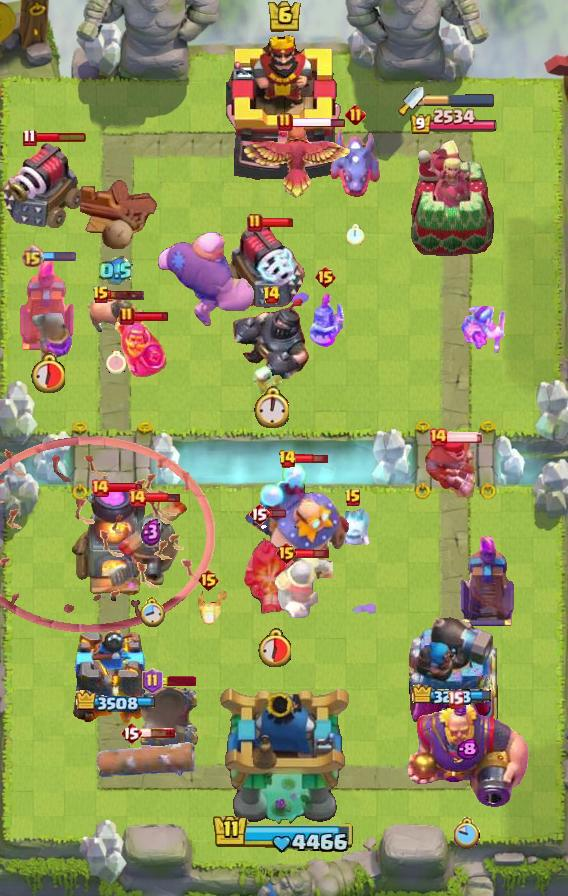balloon: (155, 230, 257, 330)
bar: (409, 138, 497, 256)
bat: (331, 506, 375, 552)
bomb-tower: (31, 308, 73, 372)
clock: (212, 813, 356, 855)
dark-prince: (107, 497, 195, 585)
electro-spirit: (99, 256, 133, 286), (142, 518, 163, 546), (457, 739, 480, 762)
elixir: (253, 386, 289, 428), (30, 353, 66, 393), (257, 628, 291, 667), (455, 817, 482, 849), (139, 597, 166, 628), (106, 350, 126, 374), (347, 224, 366, 246)
emote: (290, 116, 345, 129), (34, 131, 87, 143), (145, 492, 181, 505), (107, 289, 145, 301), (446, 431, 484, 443), (295, 452, 330, 465), (295, 548, 330, 561), (107, 482, 143, 494), (140, 727, 176, 739), (134, 311, 171, 322), (41, 250, 77, 261), (260, 217, 294, 228), (160, 676, 196, 686), (269, 509, 288, 520)
executioner: (87, 291, 145, 335)
firecracker: (274, 554, 333, 620)
firecracker-evolution: (115, 312, 169, 377)
giant-snowball: (460, 305, 508, 357)
golden-knight: (242, 124, 354, 202)
golem: (0, 140, 86, 232), (222, 222, 308, 310)
graveyard: (328, 127, 382, 199)
heal-spirit: (252, 366, 282, 398)
hunter: (70, 488, 158, 598)
ice-spirit-evolution: (189, 585, 227, 627)
ice-spirit-evolution-symbol: (17, 260, 77, 352), (457, 536, 517, 628)
inferno-dragon: (241, 516, 307, 618)
king-tower: (216, 684, 352, 826), (226, 33, 342, 181)
king-tower-bar: (424, 93, 496, 107)
lightning: (404, 703, 530, 809)
little-prince: (243, 461, 351, 595)
minion: (95, 737, 197, 781)
musketeer: (137, 685, 201, 751)
phoenix-small: (423, 433, 481, 497)
princess: (304, 291, 346, 349)
queen-tower: (72, 619, 156, 731)
royal-guardian: (230, 295, 312, 383)
selected: (410, 108, 499, 136), (412, 684, 494, 708), (73, 690, 154, 714)
skeleton-barrel: (1, 435, 216, 633)
text: (315, 265, 338, 289), (274, 541, 297, 565), (196, 568, 219, 592), (142, 668, 163, 694), (20, 244, 43, 267), (248, 502, 270, 526), (120, 721, 142, 745), (346, 103, 367, 125), (428, 427, 448, 447), (90, 478, 110, 498), (127, 488, 147, 508), (262, 285, 281, 305), (278, 449, 297, 469), (92, 285, 110, 305), (344, 488, 362, 508), (447, 691, 465, 709), (277, 112, 293, 132), (247, 213, 263, 233), (119, 306, 135, 326), (23, 129, 37, 147)
tower-bar: (407, 611, 499, 731)
